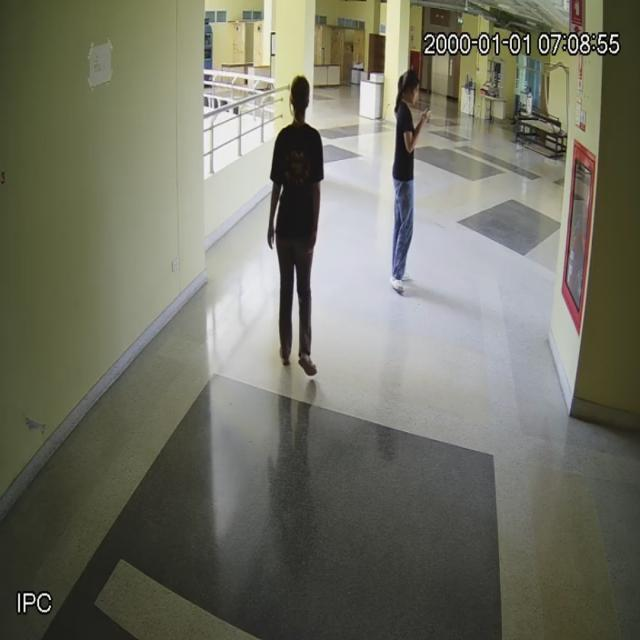normal: (265, 66, 326, 394), (386, 62, 431, 300)
